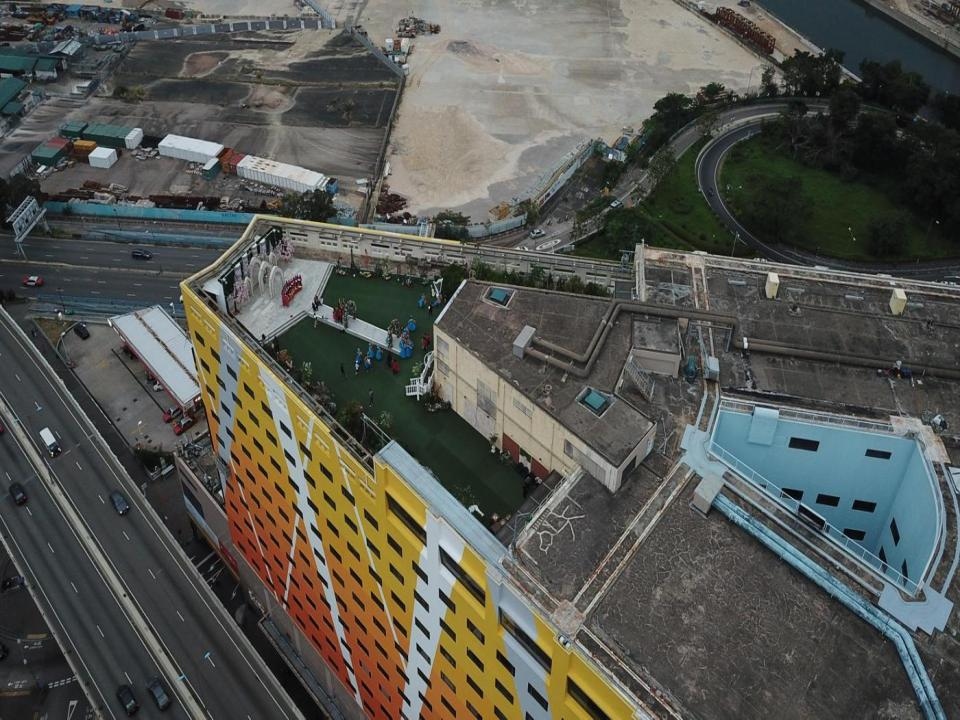car: (146, 674, 171, 710), (118, 684, 139, 716), (171, 413, 196, 436), (108, 488, 128, 516), (8, 479, 26, 506), (164, 403, 184, 424), (150, 375, 176, 391), (508, 242, 529, 260), (130, 247, 152, 261), (73, 324, 90, 342), (607, 196, 625, 213), (22, 274, 42, 289), (530, 226, 545, 239)
van: (39, 425, 62, 459)
